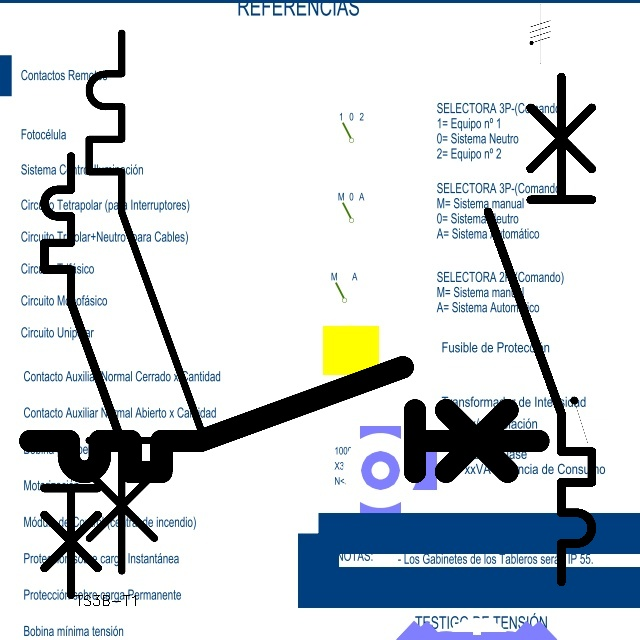interruptor_termomagnetico: (75, 19, 213, 585), (17, 354, 551, 485), (475, 64, 605, 595), (33, 145, 146, 606)
